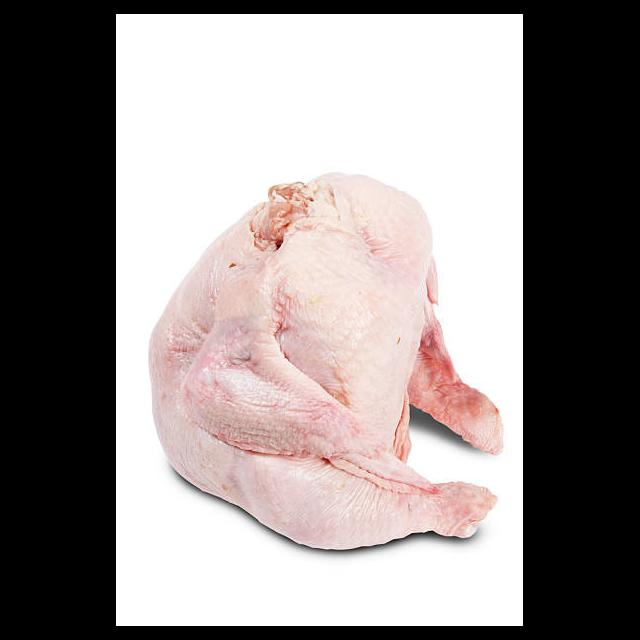chicken: (148, 167, 507, 550)
